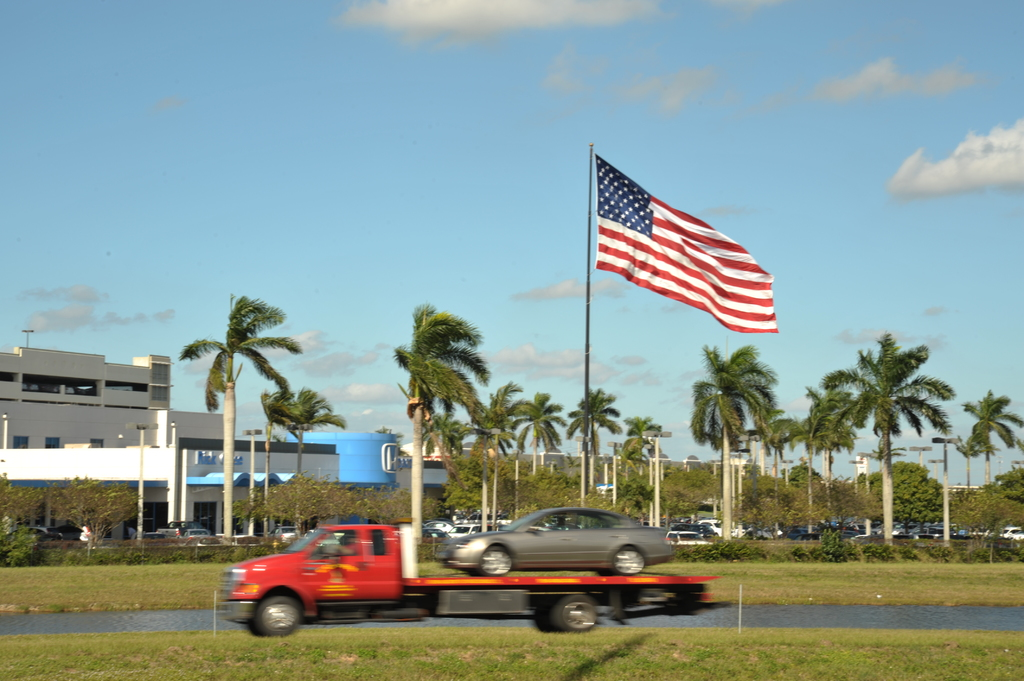Car: (31, 509, 1023, 540), (435, 504, 678, 572)
